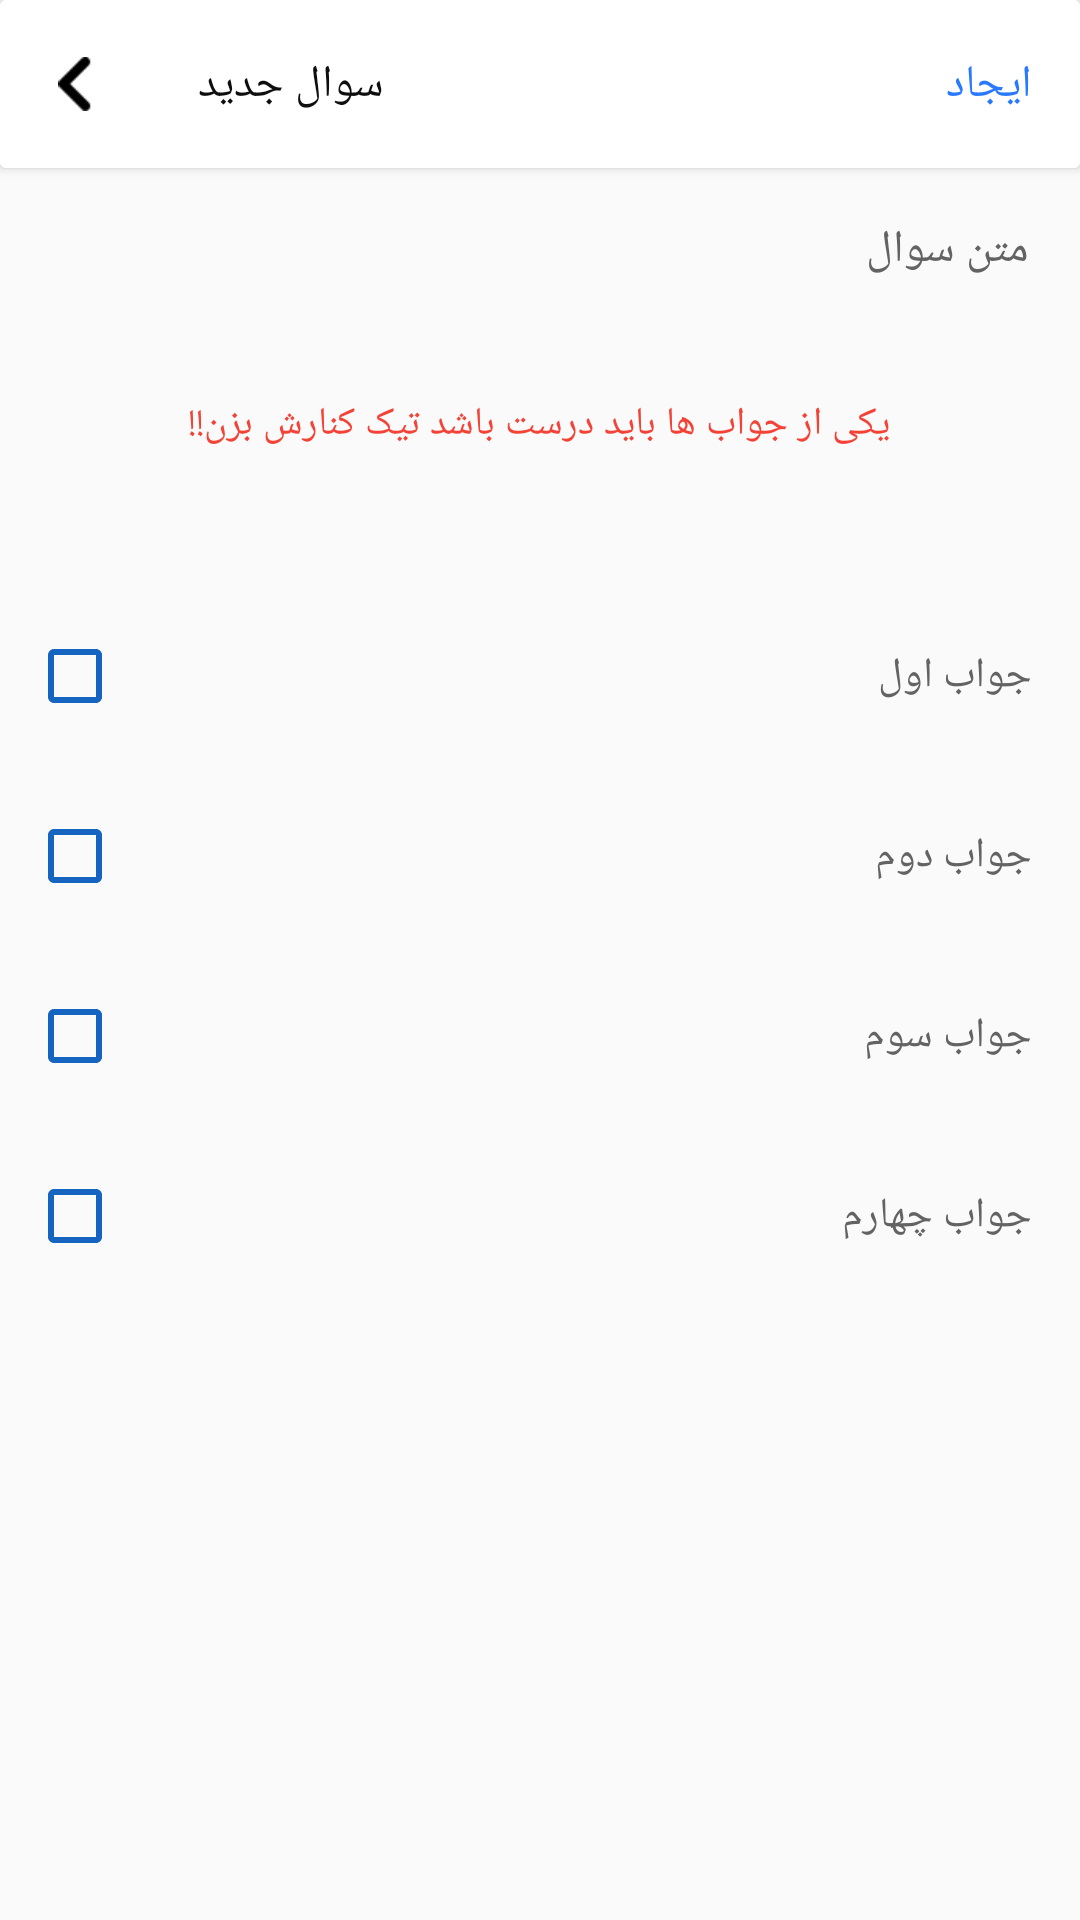

Icon click points for this 1080x1920 phone screenshot, format (x,y):
cta back: (74,84)
